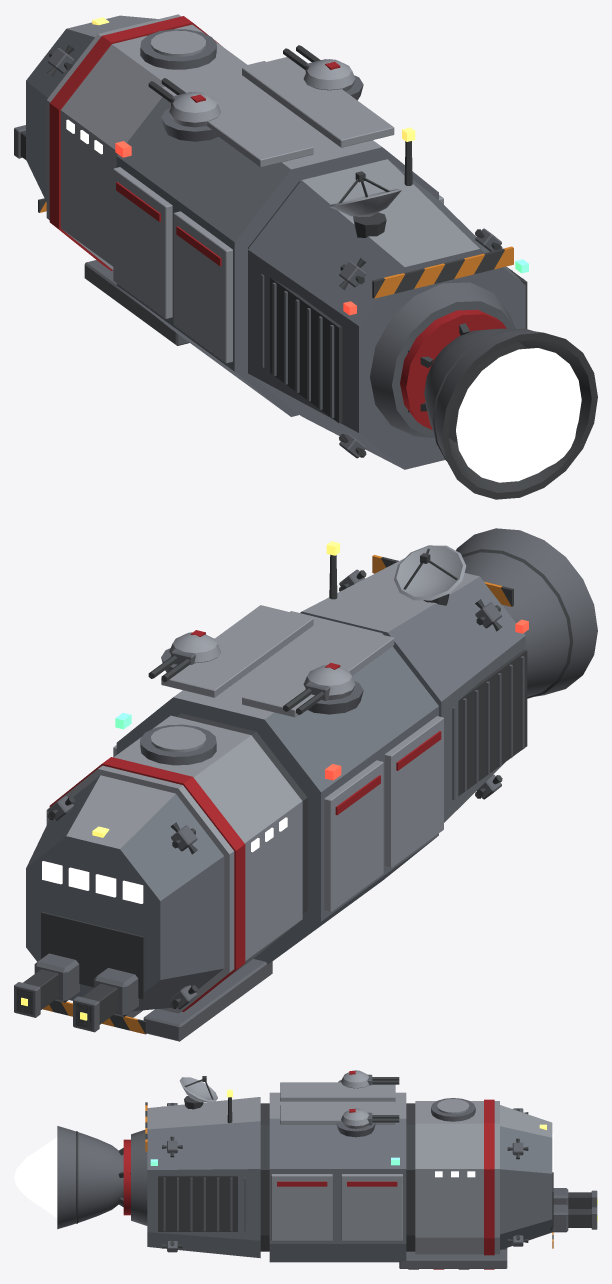
File: merc_fighter.glb
The picture shows the model from 3 angles, top to bottom: view 1: azimuth 30°, elevation 25°; view 2: azimuth 150°, elevation 25°; view 3: azimuth 270°, elevation 25°; orthographic projection. The views are drawn at different scales.
Visible parts, largest first — view 1: merc_hull, engine_glow, merc_weapons; view 2: merc_hull, merc_weapons; view 3: merc_hull, merc_weapons, engine_glow.
Boxes of the visible parts, x1,y1,x2,y2 form: merc_hull: [26, 14, 597, 499]; engine_glow: [456, 348, 581, 482]; merc_weapons: [14, 45, 363, 345]; merc_hull: [26, 528, 597, 1013]; merc_weapons: [14, 630, 363, 1041]; merc_hull: [57, 1076, 553, 1262]; merc_weapons: [336, 1070, 597, 1269]; engine_glow: [14, 1137, 57, 1217].
Bounding box in the file's own units: 4.12 × 5.43 × 16.22.
